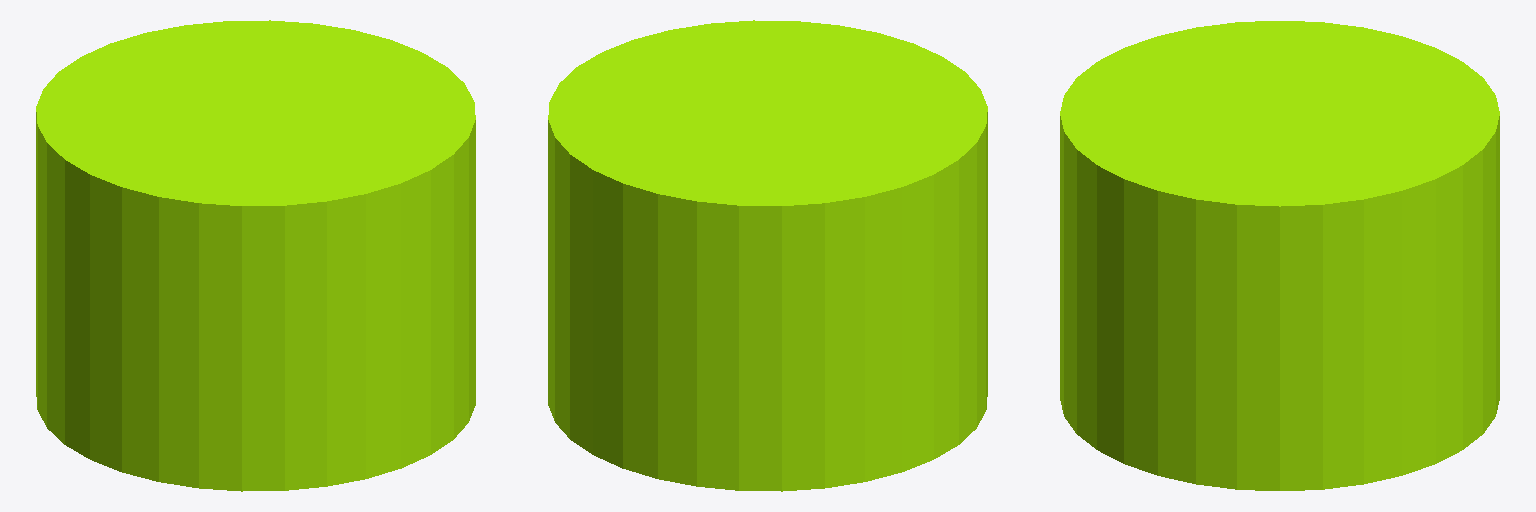
URDF robot description (disc):
<robot name="disc">
    <material name="light_green">
        <color rgba="0.721 1 0.078 1.0" />
    </material>
    <link name="base_link">
        <contact>
            <lateral_friction value="1.0" />
            <rolling_friction value="0.001" />
            <contact_cfm value="0.0" />
            <contact_erp value="1.0" />
        </contact>
        <inertial>
            <origin rpy="0 0 0" xyz="0.0 0.0 0.0" />
            <mass value=".1" />
            <inertia ixx="1" ixy="0" ixz="0" iyy="1" iyz="0" izz="1" />
        </inertial>
        <visual>
            <origin rpy="0 0 0" xyz="0 0 0" />
            <geometry>
                <cylinder length="0.005" radius="0.0035" />
            </geometry>
            <material name="light_green" />
        </visual>
        <collision>
            <origin rpy="0 0 0" xyz="0 0 0" />
            <geometry>
                <cylinder length="0.005" radius="0.0035" />
            </geometry>
        </collision>
    </link>
</robot>

--- Facts derived from the render (not from the file) ---
The picture shows the robot from 3 angles, left to right: view 1: azimuth 30°, elevation 25°; view 2: azimuth 150°, elevation 25°; view 3: azimuth 270°, elevation 25°; orthographic projection.
Robot: disc — 1 links, 0 joints (none); root link base_link; default pose: all joints at 0.
Visible links, largest first — view 1: base_link; view 2: base_link; view 3: base_link.
Boxes of the visible links, bbox=[...] form: base_link: bbox=[36, 20, 475, 491]; base_link: bbox=[548, 20, 987, 491]; base_link: bbox=[1060, 21, 1499, 490].
Bounding box of the posed robot: 0.007 × 0.007 × 0.005 m (x, y, z).
Geometry: primitives only (box / cylinder / sphere), no mesh files.